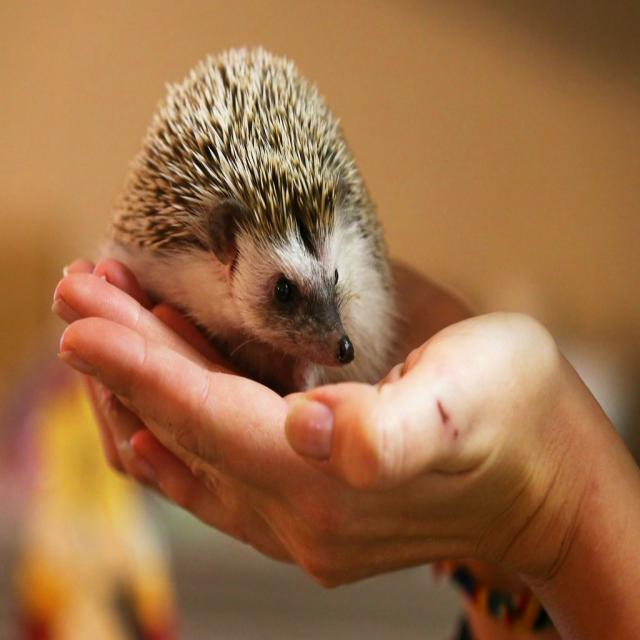hedgehog: (106, 49, 398, 394)
